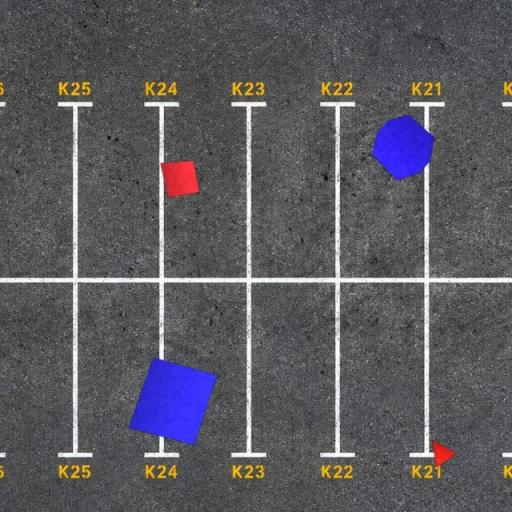BLUE_SQUARE: (128, 356, 218, 446)
RED_SQUARE: (160, 160, 200, 198)
